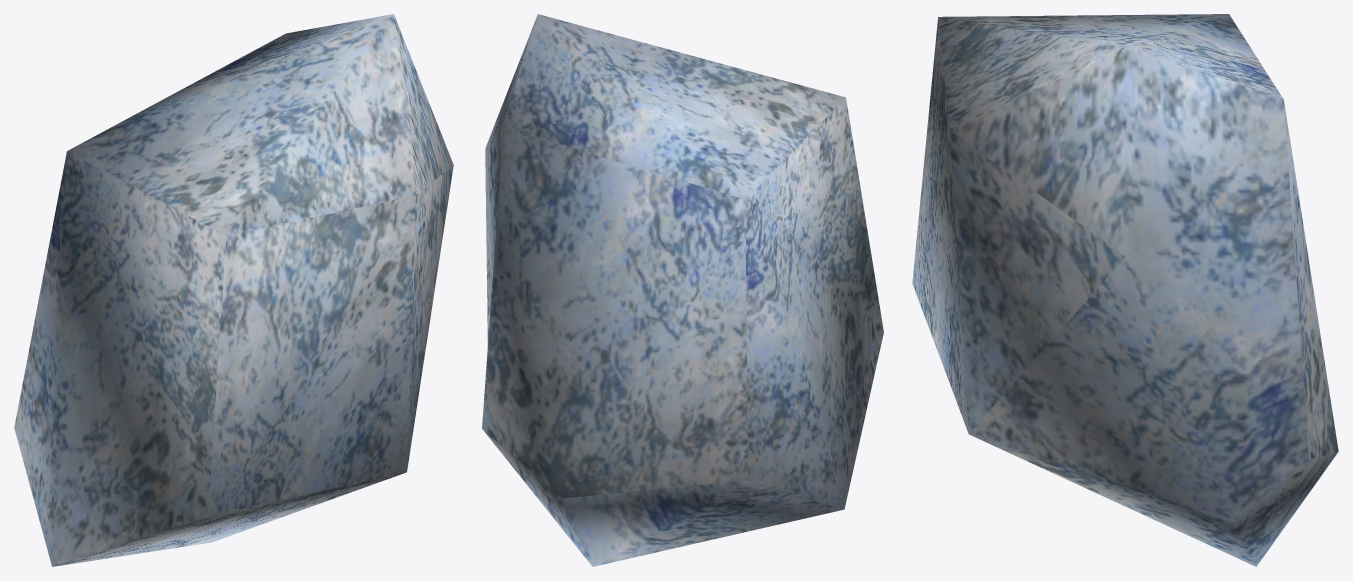
Rendered from asteroid_ice_radial_s02_l3.fbx.
The picture shows the model from 3 angles, left to right: view 1: azimuth 30°, elevation 25°; view 2: azimuth 150°, elevation 25°; view 3: azimuth 270°, elevation 25°; orthographic projection. The views are drawn at different scales.
Visible parts, largest first — view 1: mesh_node; view 2: mesh_node; view 3: mesh_node.
Boxes of the visible parts, x1,y1,x2,y2 form: mesh_node: (14,14,453,566); mesh_node: (482,14,883,566); mesh_node: (912,14,1338,566).
Bounding box in the file's own units: 4.25 × 5.5 × 3.65.
